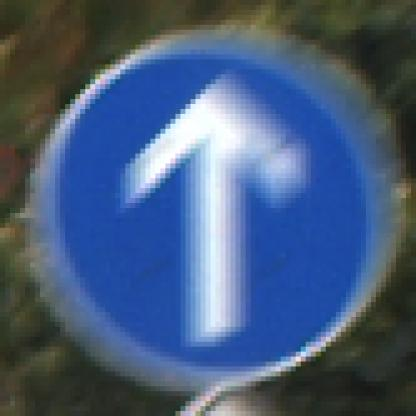AheadOnly: (41, 41, 382, 382)
